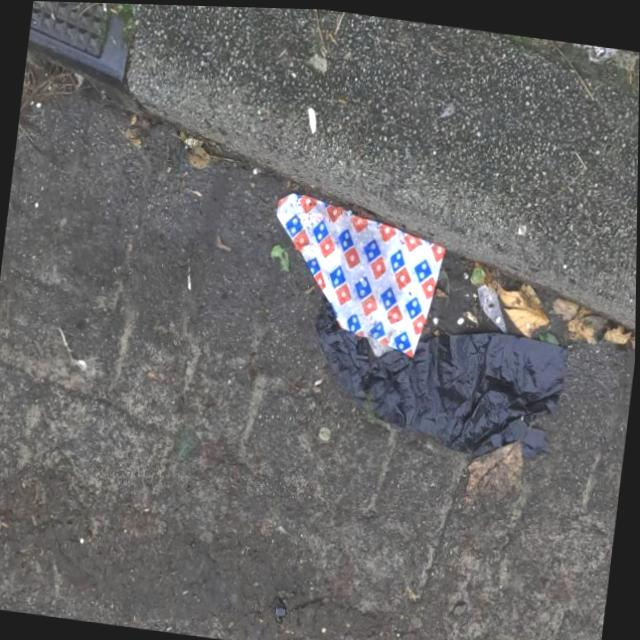Paper: (260, 185, 451, 358)
